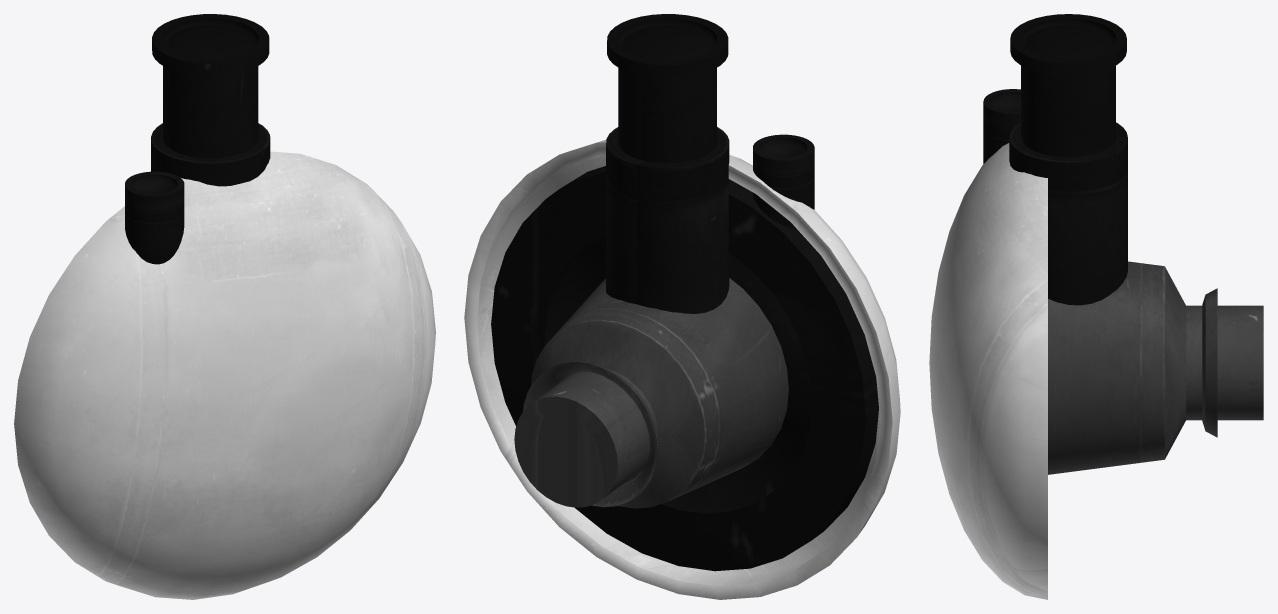
File: head.obj
3 views of the same model, side by side, from view 1: azimuth 30°, elevation 25°; view 2: azimuth 150°, elevation 25°; view 3: azimuth 270°, elevation 25° (orthographic). The views are drawn at different scales.
Parts seen in each view (by area): view 1: Sphere.006, Cylinder.003, Cylinder.004; view 2: Sphere.008, Cylinder.005, Cylinder.003, Sphere.006, Cylinder.004, Sphere.010; view 3: Sphere.006, Cylinder.005, Cylinder.003, Sphere.010, Cylinder.004.
Part boxes in pixels (x1,y1,x2,y2): Sphere.006: [14, 151, 435, 599]; Cylinder.003: [151, 14, 270, 186]; Cylinder.004: [125, 171, 184, 264]; Sphere.008: [491, 166, 878, 571]; Cylinder.005: [514, 278, 788, 508]; Cylinder.003: [606, 14, 729, 313]; Sphere.006: [464, 140, 900, 599]; Cylinder.004: [753, 134, 814, 230]; Sphere.010: [523, 362, 658, 507]; Sphere.006: [929, 143, 1047, 599]; Cylinder.005: [1048, 261, 1263, 474]; Cylinder.003: [1009, 14, 1127, 305]; Sphere.010: [1202, 288, 1217, 437]; Cylinder.004: [983, 89, 1020, 163].
Bounding box in the file's own units: 0.4795 × 0.6024 × 0.3378.
